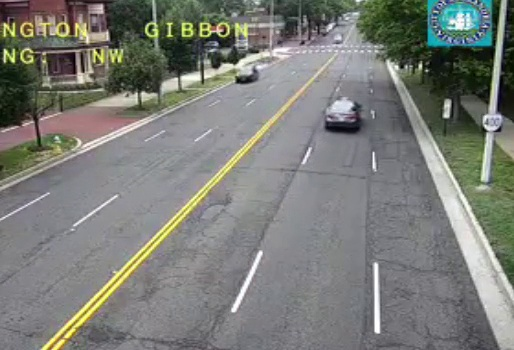car: (325, 100, 358, 128)
